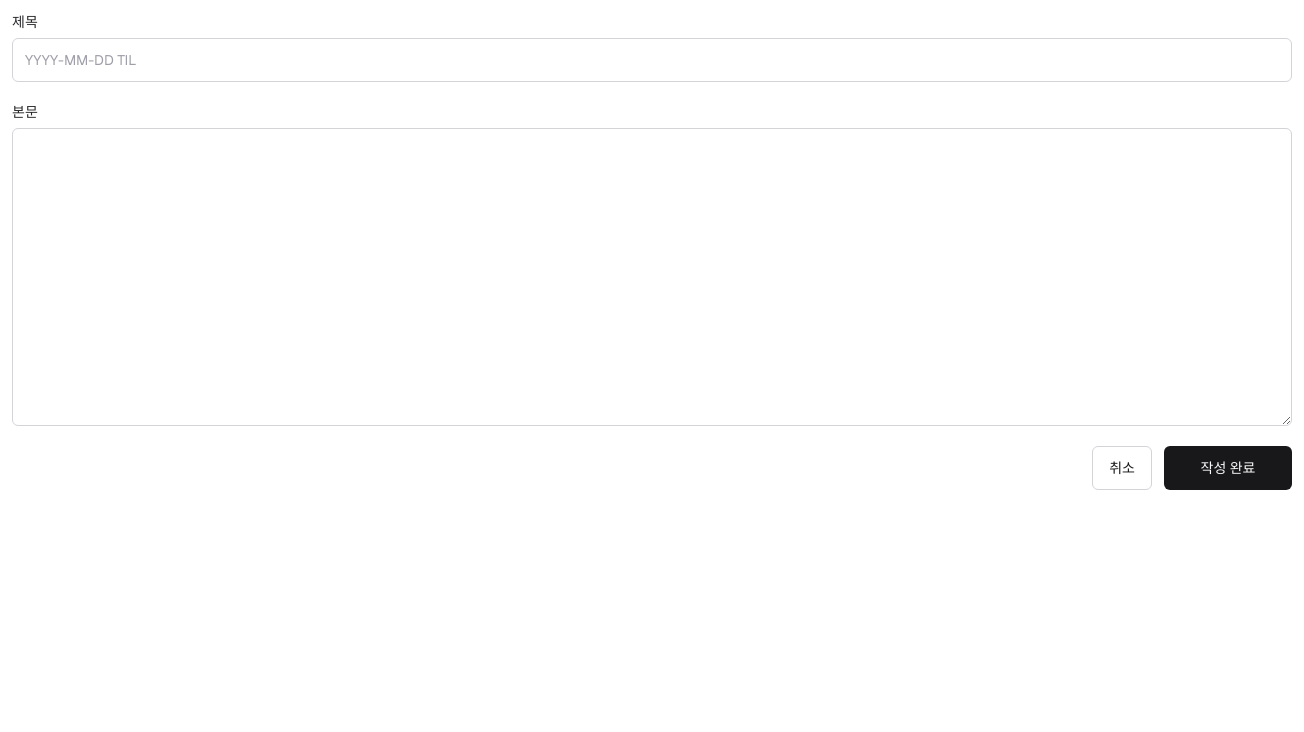
Scenario: <DevNoteForm /> create 모드 › formError 가 돌아오면 role=alert 배너가 노출된다
This screenshot has width=1304, height=732.
Type "t" into the field labelled "제목". click: point(652, 60)
box: [12,38,1292,82]
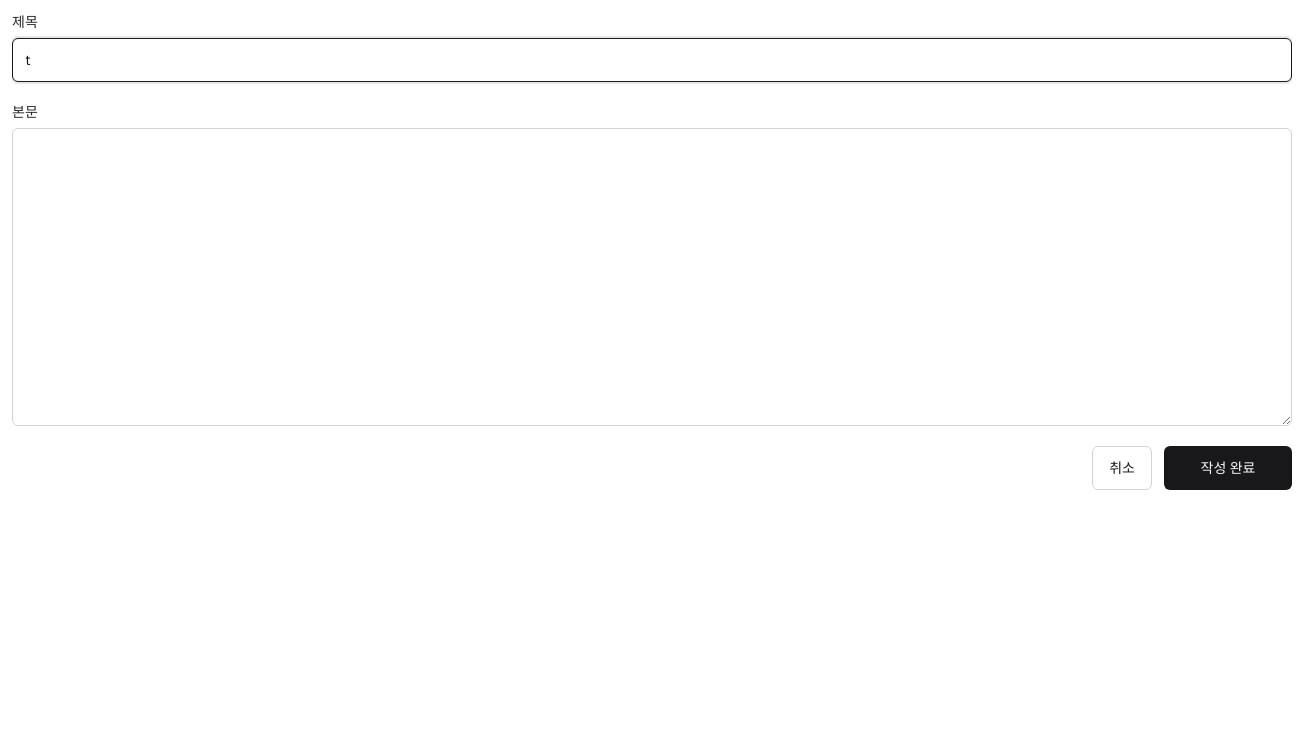
Type "c" into the text box labelled "본문". click: point(652, 277)
box: [12,128,1292,426]
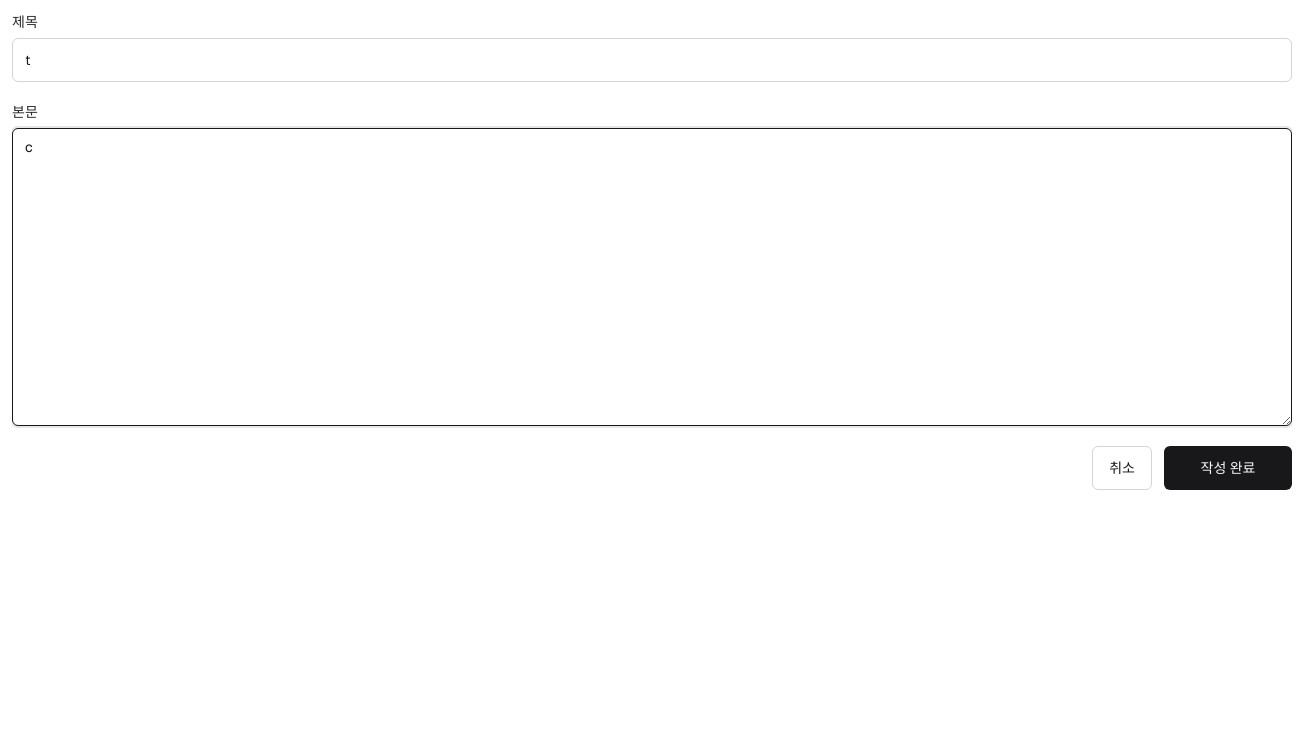
Click the button "작성 완료". click: point(1228, 468)
box: [1164,446,1292,490]
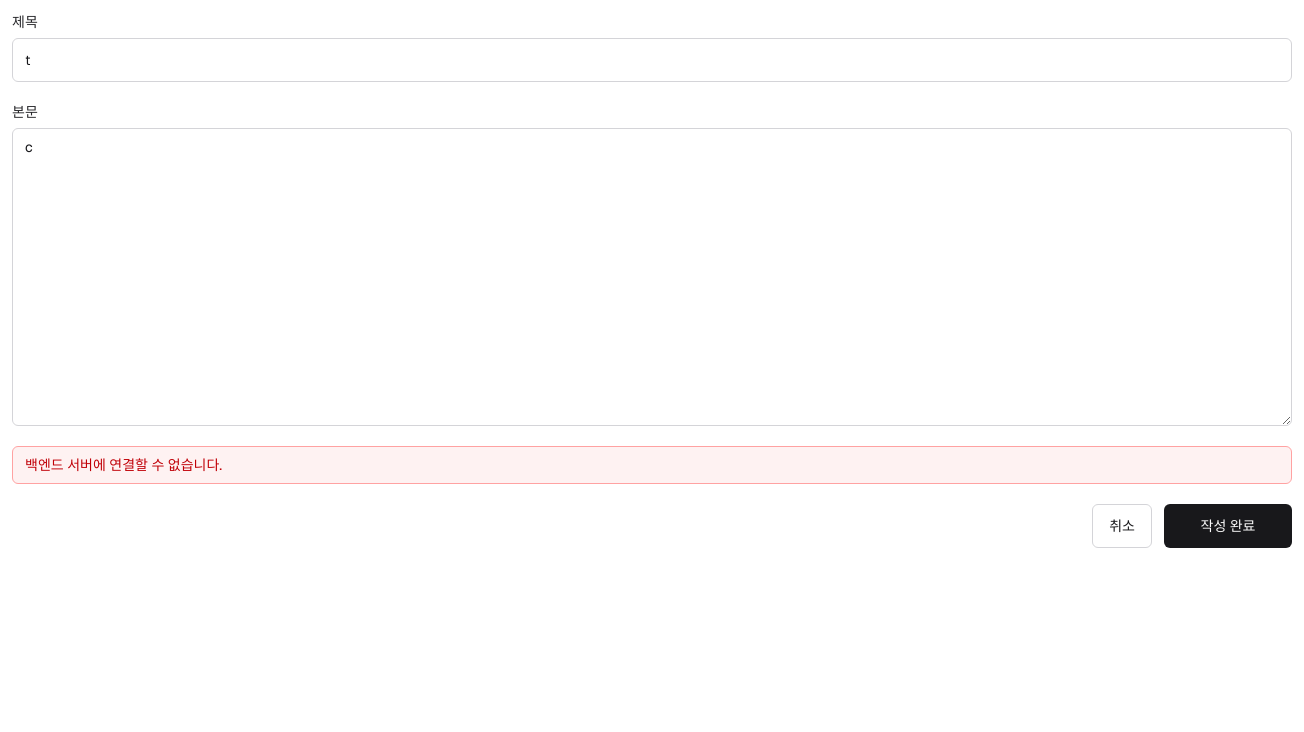
Check: the message reads "백엔드 서버에 연결할 수 없습니다.", box [25,456,222,474]
